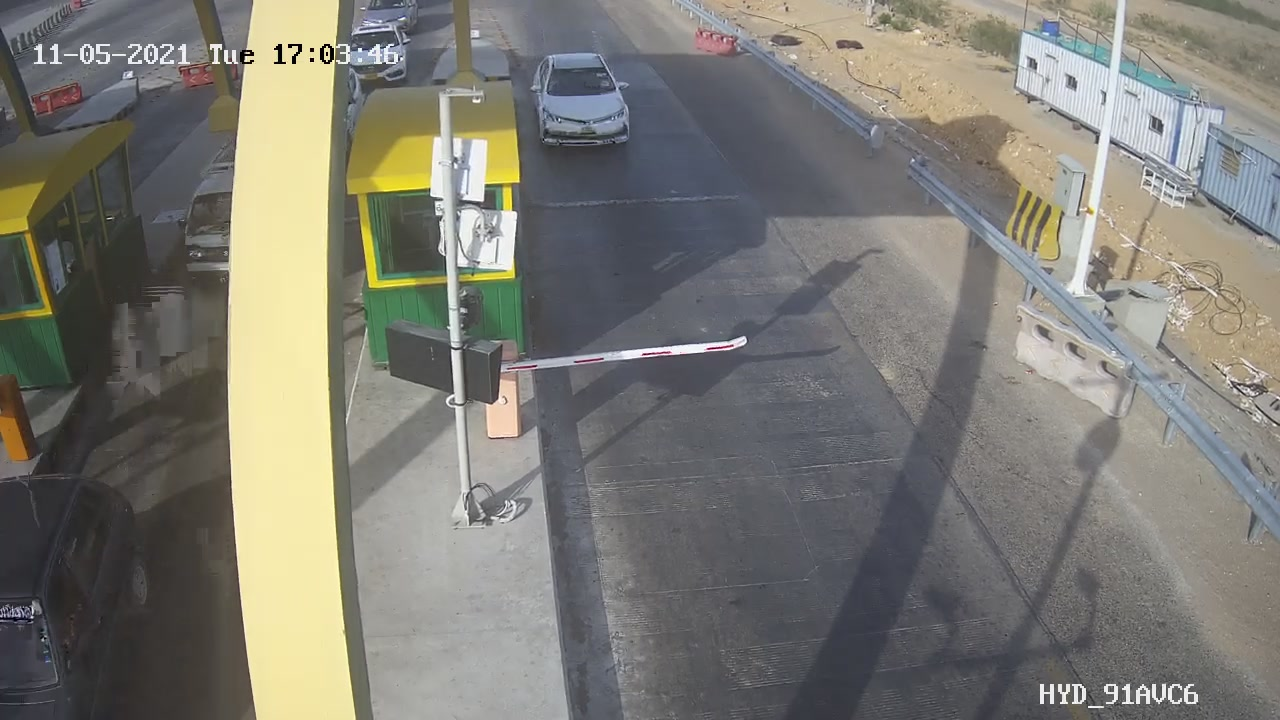F1: (517, 39, 652, 169)
